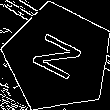N_SE: (26, 29, 90, 87)
